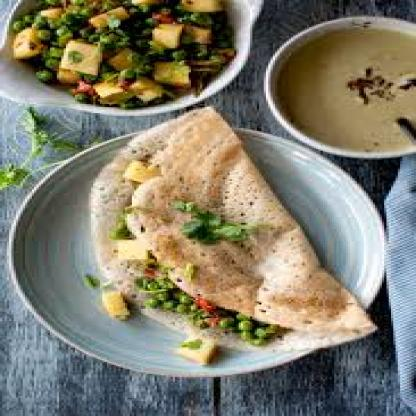dosa: (89, 107, 376, 353)
